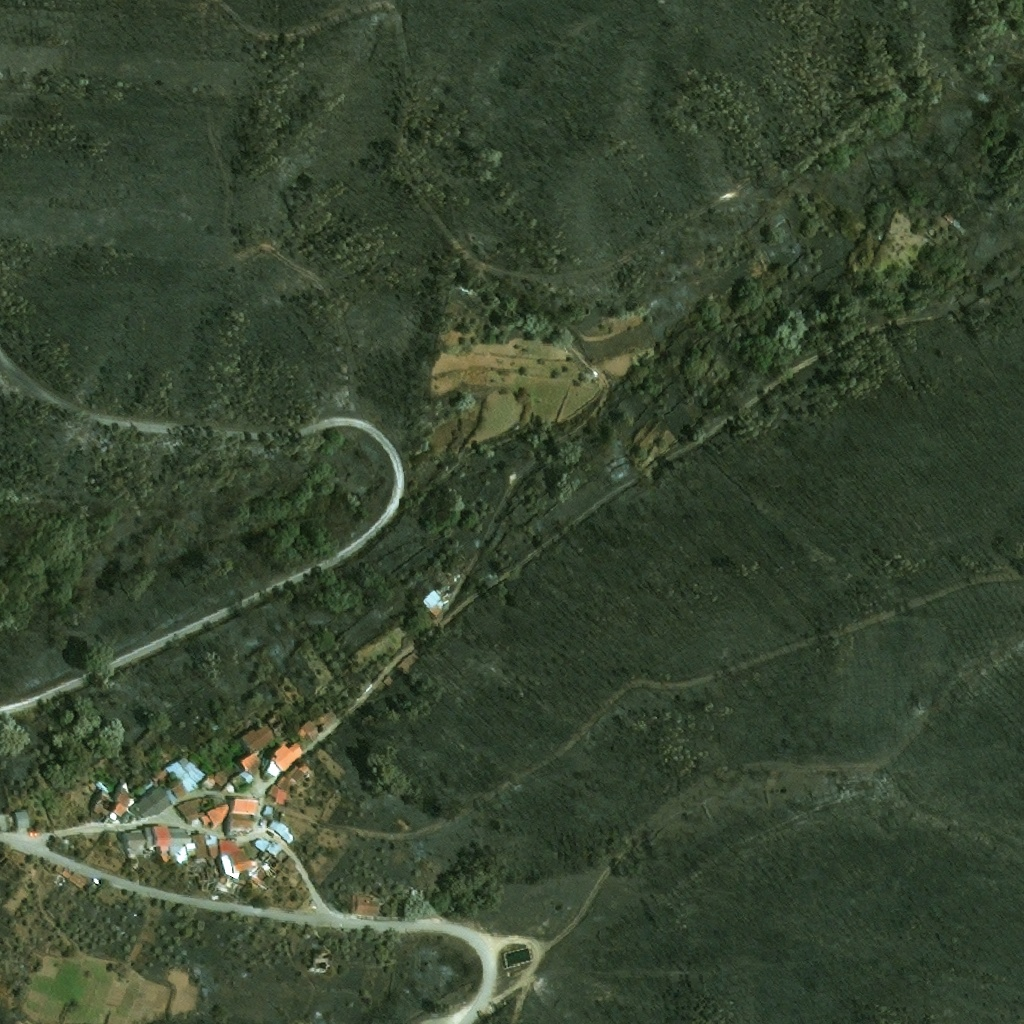0 no-damage: (149, 755, 206, 793), (238, 723, 277, 774), (129, 784, 174, 824), (268, 768, 305, 805), (297, 710, 337, 744), (52, 863, 93, 893), (168, 827, 195, 866), (152, 823, 173, 865), (271, 743, 302, 771), (175, 796, 204, 824), (112, 776, 131, 818), (198, 802, 229, 827), (420, 591, 446, 620), (123, 827, 145, 860), (91, 788, 112, 820), (191, 832, 210, 865), (354, 893, 381, 916), (229, 813, 256, 834), (14, 807, 38, 830), (396, 655, 419, 676), (141, 826, 155, 858), (267, 712, 288, 733), (226, 848, 251, 865), (233, 797, 258, 814), (232, 860, 253, 875), (205, 838, 219, 859), (219, 838, 236, 855), (254, 836, 272, 852), (269, 820, 288, 835), (922, 222, 939, 238), (227, 875, 245, 890), (220, 811, 231, 835), (938, 212, 953, 229), (0, 812, 12, 832), (266, 761, 282, 776), (431, 590, 449, 603), (261, 804, 274, 818), (170, 782, 185, 793), (382, 675, 394, 688), (12, 811, 19, 830), (174, 787, 185, 799), (228, 797, 235, 813), (238, 771, 251, 779), (245, 775, 252, 784)
3 destroyed: (246, 840, 297, 897), (219, 853, 232, 895), (212, 855, 226, 893), (312, 948, 327, 969), (410, 887, 424, 898), (326, 951, 333, 968), (311, 968, 327, 974)
